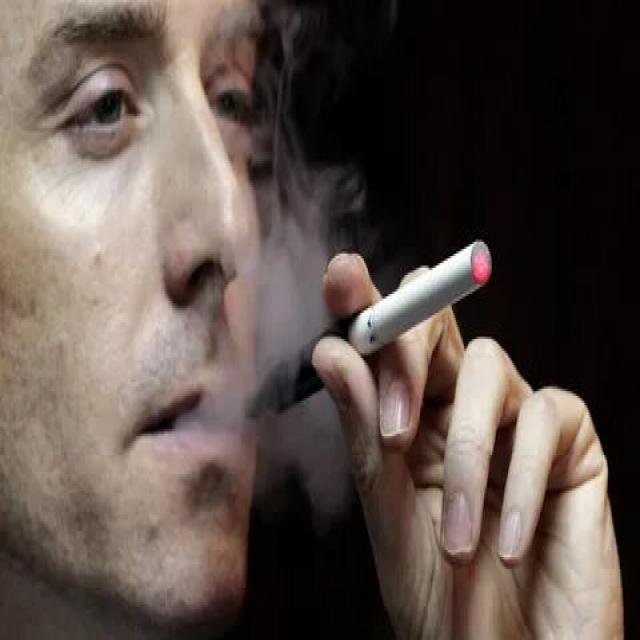smoke: (243, 227, 500, 422)
